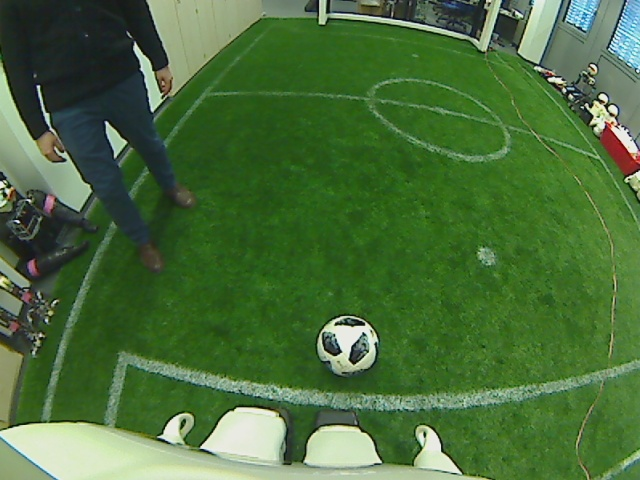ball: (315, 312, 380, 376)
